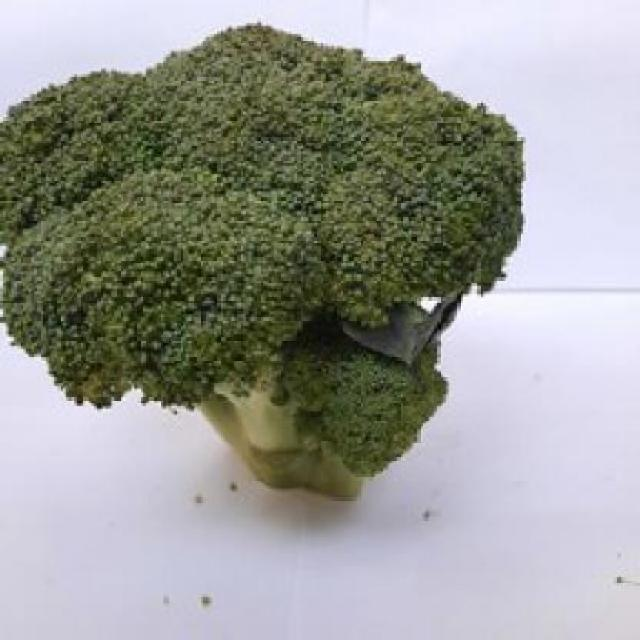broccoli: (9, 29, 520, 497)
